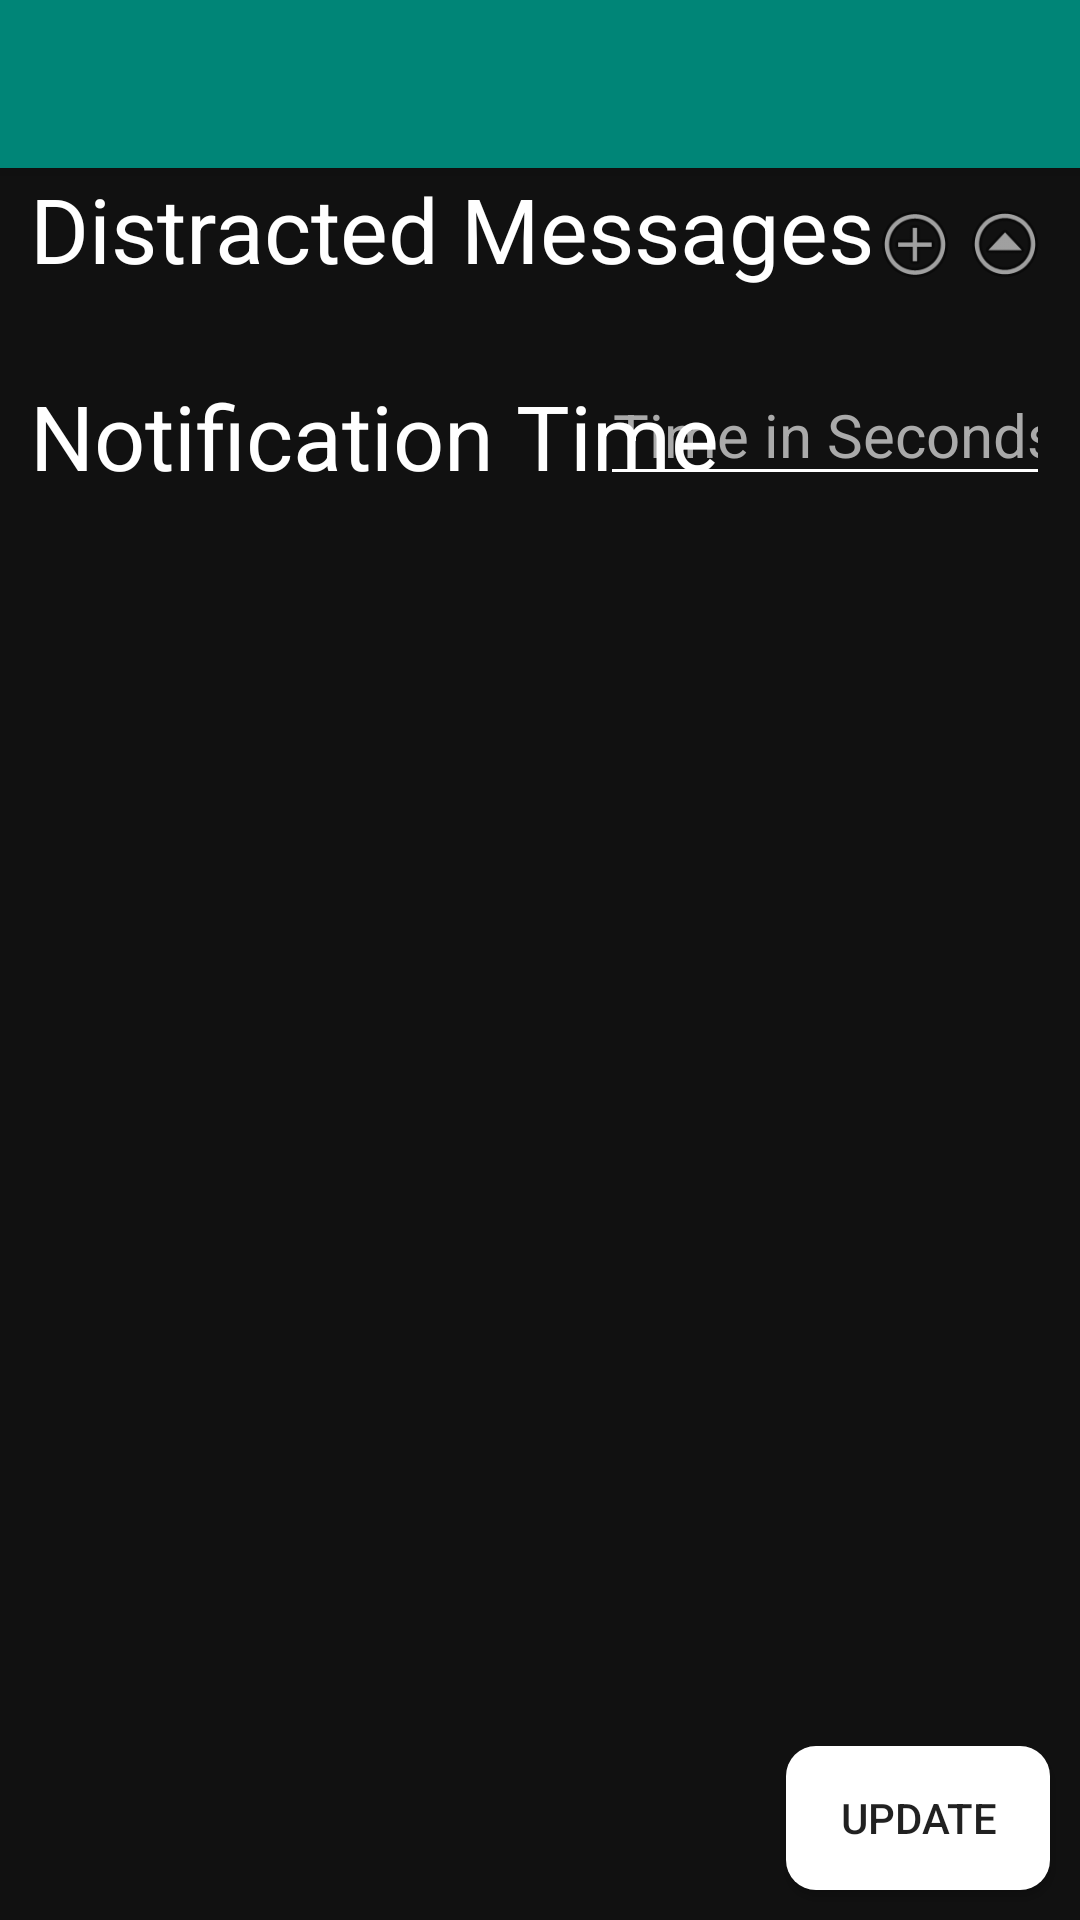

Screen size 1080*1920. Icon name, then its box in pixels as (x1, y1, x2, y2):
add: (884, 214, 946, 275)
